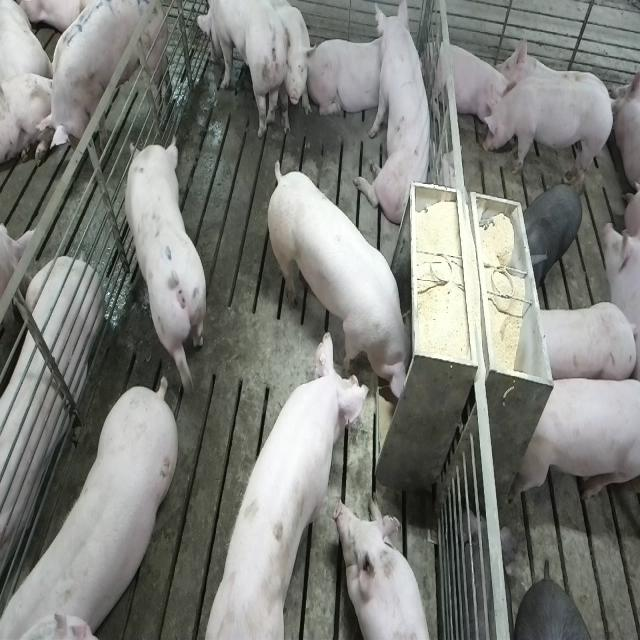Feeding: (196, 319, 370, 635), (271, 162, 421, 410)
Sitting: (357, 4, 436, 227), (195, 1, 316, 143)
Standing: (5, 373, 184, 635), (37, 0, 174, 159), (123, 142, 207, 400), (513, 373, 637, 512), (482, 78, 619, 184), (528, 299, 636, 385), (522, 176, 584, 288)
Sternal_lying: (0, 246, 101, 581), (337, 495, 437, 640), (429, 36, 508, 132), (310, 34, 390, 121)
